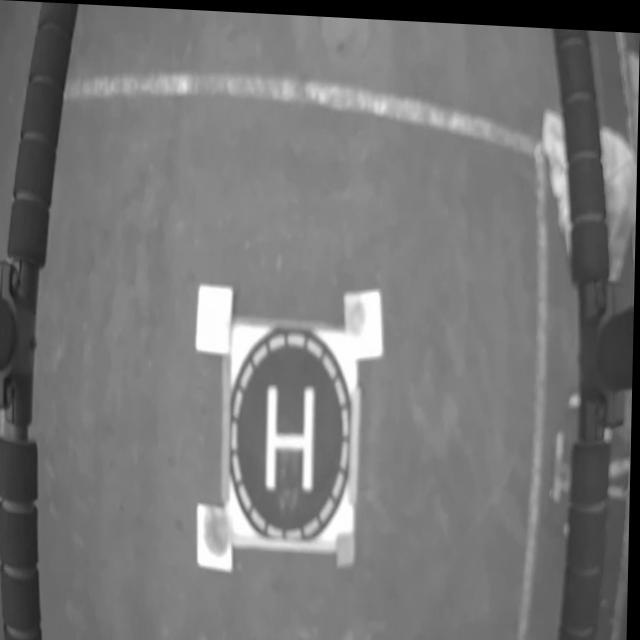Helipad: (268, 385, 315, 486)
